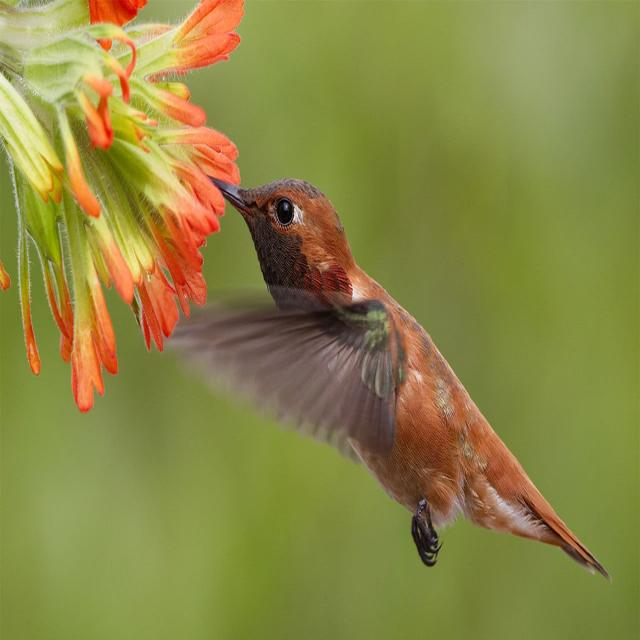Humming Bird: (162, 167, 605, 592)
